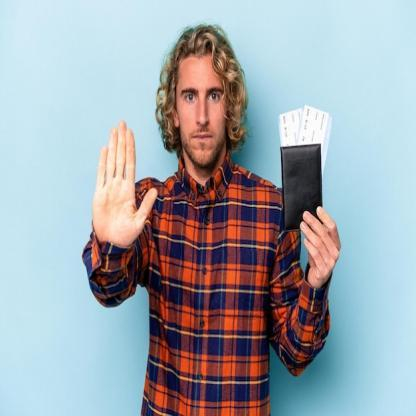stop: (89, 115, 159, 248)
